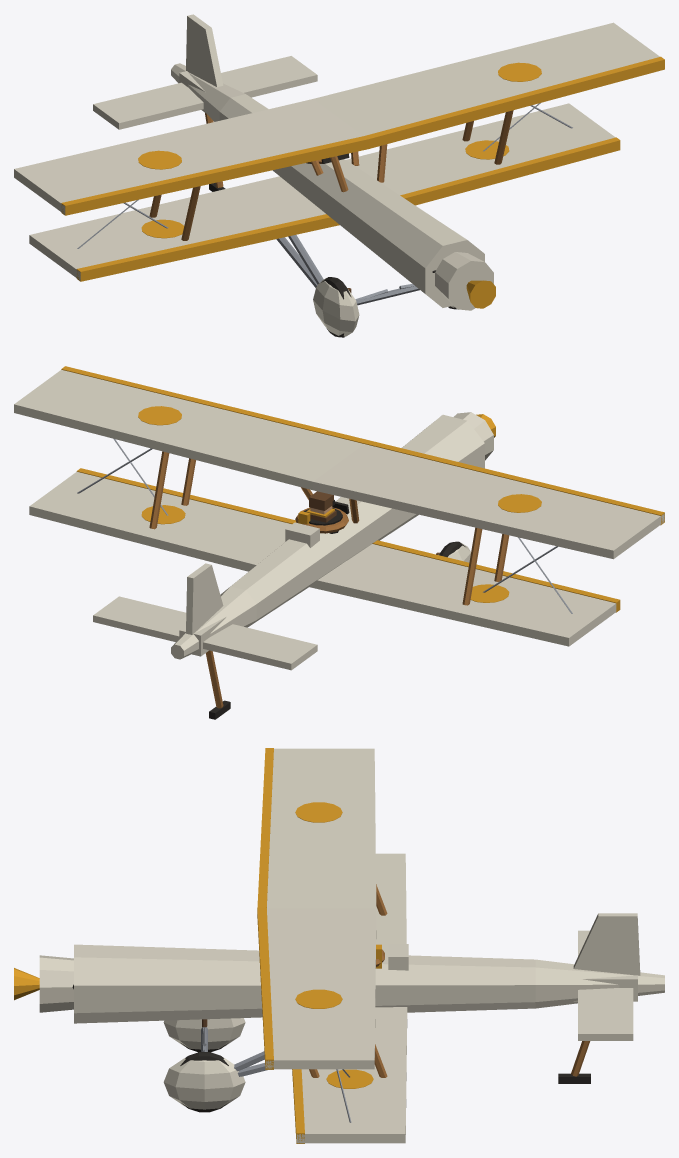
Rendered from body.glb.
3 views of the same model, one above another, from view 1: azimuth 30°, elevation 25°; view 2: azimuth 150°, elevation 25°; view 3: azimuth 270°, elevation 25° (orthographic). The views are drawn at different scales.
Parts seen in each view (by area): view 1: wing_1, wing_0, fuselage, wing_1_leading_edge, wing_0_leading_edge, horizontal_stabilizer, engine_nose, vertical_fin, wheel_spat, tail_cone, spinner, roundel_1_r (+3 smaller); view 2: wing_1, wing_0, fuselage, horizontal_stabilizer, wing_1_leading_edge, wing_0_leading_edge, tail_cone, vertical_fin, roundel_1_r, roundel_1_l, engine_nose, strut_l0_rear (+4 smaller); view 3: wing_1, fuselage, wing_0, wheel_spat (×2), vertical_fin, wing_1_leading_edge, horizontal_stabilizer, tail_cone, engine_nose, roundel_1_l, roundel_1_r, roundel_0_r (+2 smaller).
Part boxes in pixels (x1,y1,x2,y2): wing_1: [14, 22, 659, 214]; wing_0: [29, 103, 615, 280]; fuselage: [219, 94, 484, 307]; wing_1_leading_edge: [61, 56, 664, 215]; wing_0_leading_edge: [76, 137, 620, 281]; horizontal_stabilizer: [93, 56, 317, 129]; engine_nose: [435, 252, 493, 310]; vertical_fin: [186, 14, 223, 87]; wheel_spat: [313, 278, 359, 336]; tail_cone: [171, 63, 244, 121]; spinner: [466, 280, 495, 308]; roundel_1_r: [498, 62, 541, 81]; wing_1: [14, 370, 664, 559]; wing_0: [29, 472, 616, 646]; fuselage: [230, 414, 484, 626]; horizontal_stabilizer: [93, 596, 317, 670]; wing_1_leading_edge: [61, 366, 664, 525]; wing_0_leading_edge: [76, 468, 620, 612]; tail_cone: [171, 586, 256, 659]; vertical_fin: [186, 563, 223, 634]; roundel_1_r: [138, 406, 181, 425]; roundel_1_l: [498, 494, 541, 512]; engine_nose: [453, 412, 493, 460]; strut_l0_rear: [462, 527, 482, 605]; wing_1: [265, 748, 376, 1069]; fuselage: [74, 944, 535, 1023]; wing_0: [296, 853, 407, 1143]; wheel_spat (×2): [163, 1018, 245, 1109]; vertical_fin: [573, 913, 640, 975]; wing_1_leading_edge: [257, 748, 273, 1069]; horizontal_stabilizer: [578, 930, 633, 1040]; tail_cone: [535, 959, 664, 1008]; engine_nose: [39, 955, 73, 1012]; roundel_1_l: [295, 802, 342, 822]; roundel_1_r: [295, 989, 342, 1008]; roundel_0_r: [326, 1069, 373, 1088].
Size of the model in its own units: 9.48 by 2.54 by 8.38.
